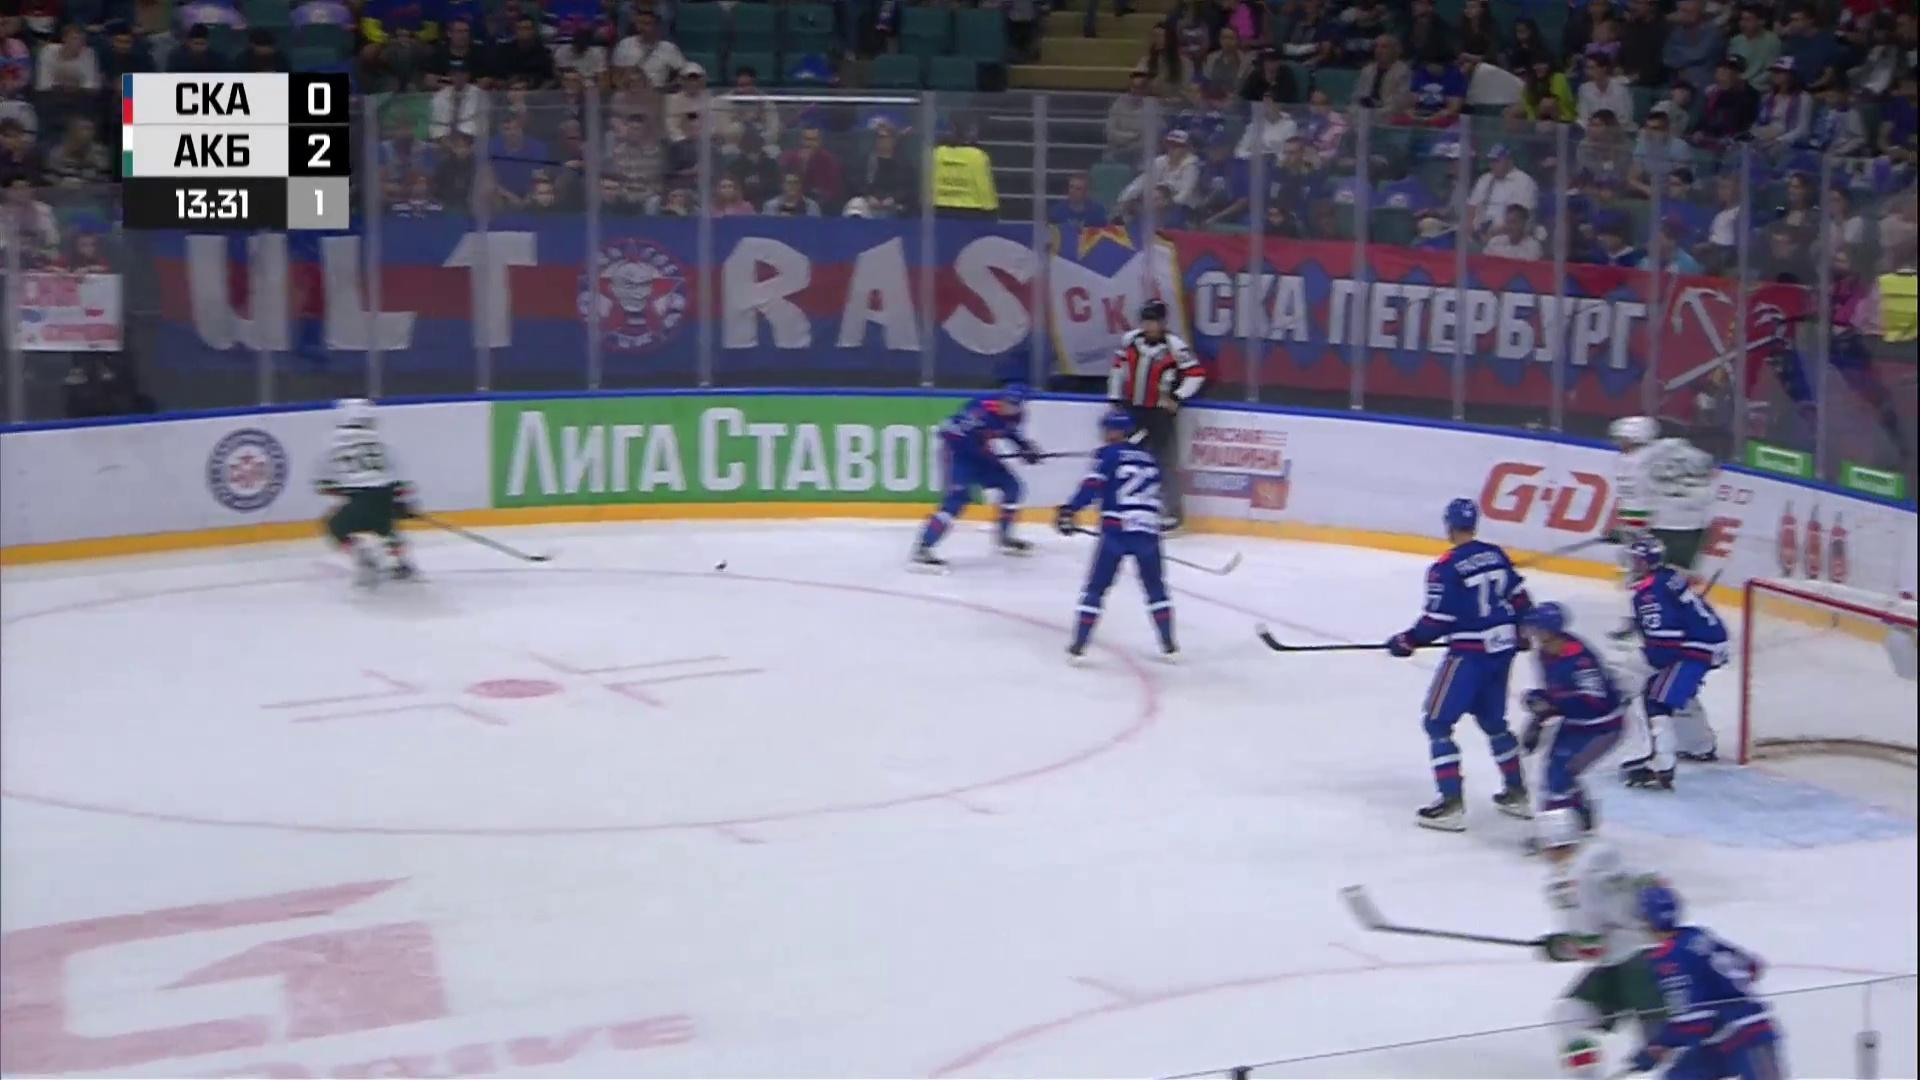ball: (715, 560, 728, 572)
